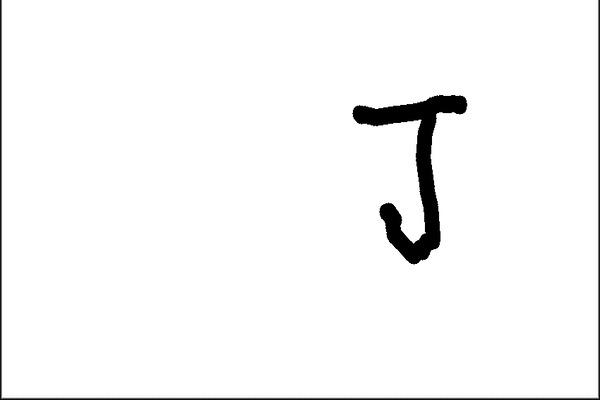J: (350, 89, 474, 268)
